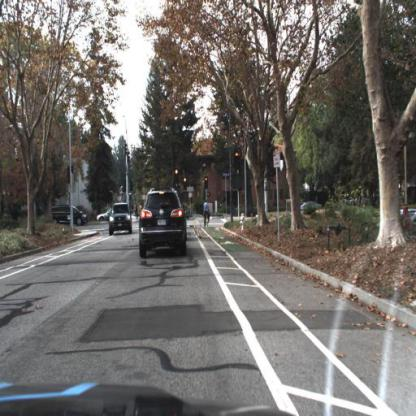biker: (203, 200, 211, 230)
car: (138, 187, 188, 258), (49, 204, 90, 229), (50, 204, 91, 228), (107, 201, 133, 238), (292, 198, 325, 218), (96, 206, 116, 224)
trafficLight-Red: (234, 150, 242, 172), (235, 150, 242, 170), (184, 177, 189, 191), (175, 169, 180, 182), (204, 175, 209, 188)
